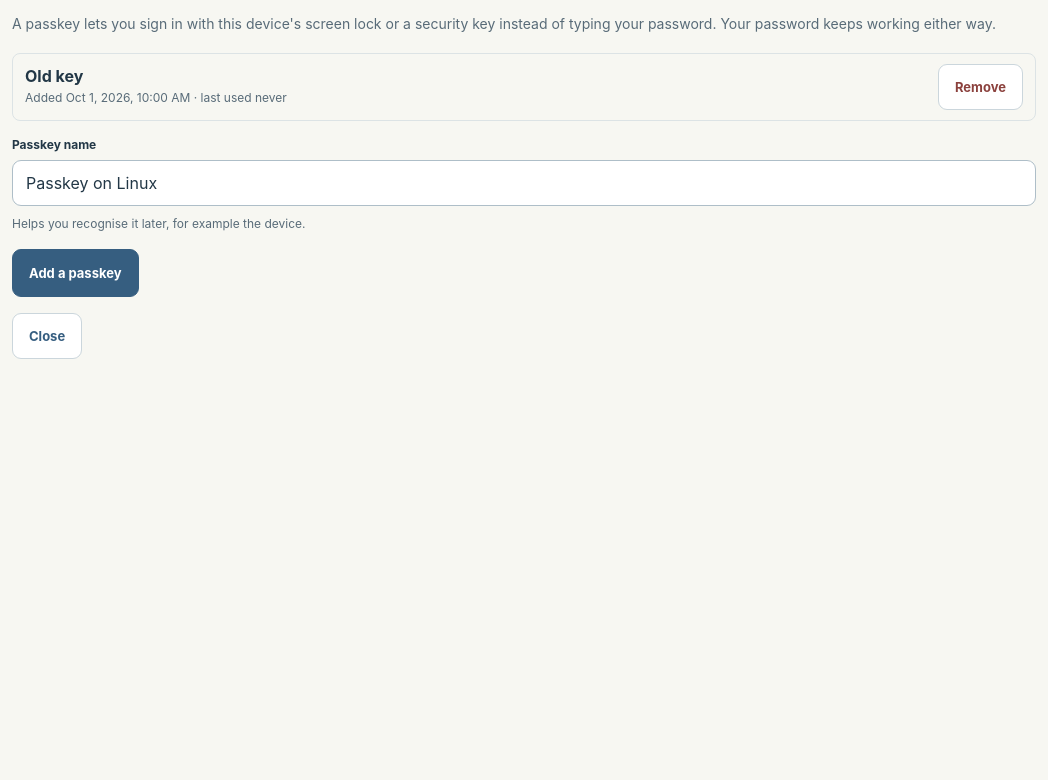
Test: managing passkeys › adds a passkey, asking for the password when the session is not fresh, and removes the last one
Expected: the text "Old key" is shown, [25,66,83,86]
Replace the text in the field labelled "Passkey name" with "Desk key" at coordinates (524, 182), box [12,160,1036,206]
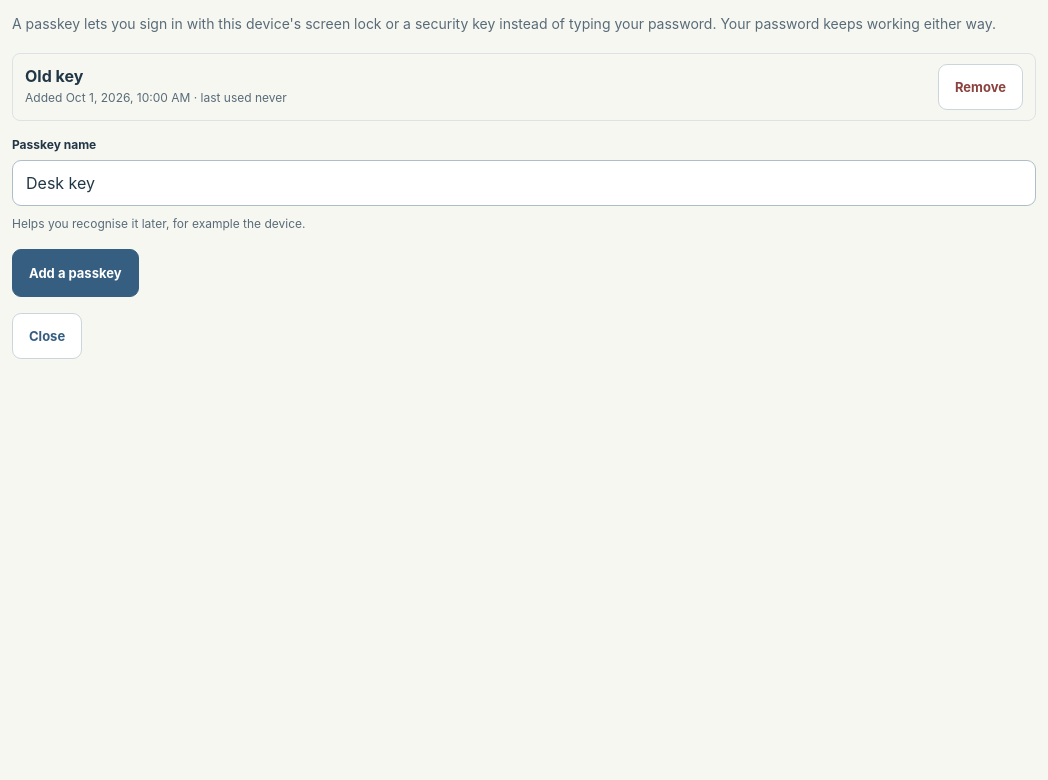
Click the button "Add a passkey".
click(75, 273)  # box [12,249,138,297]
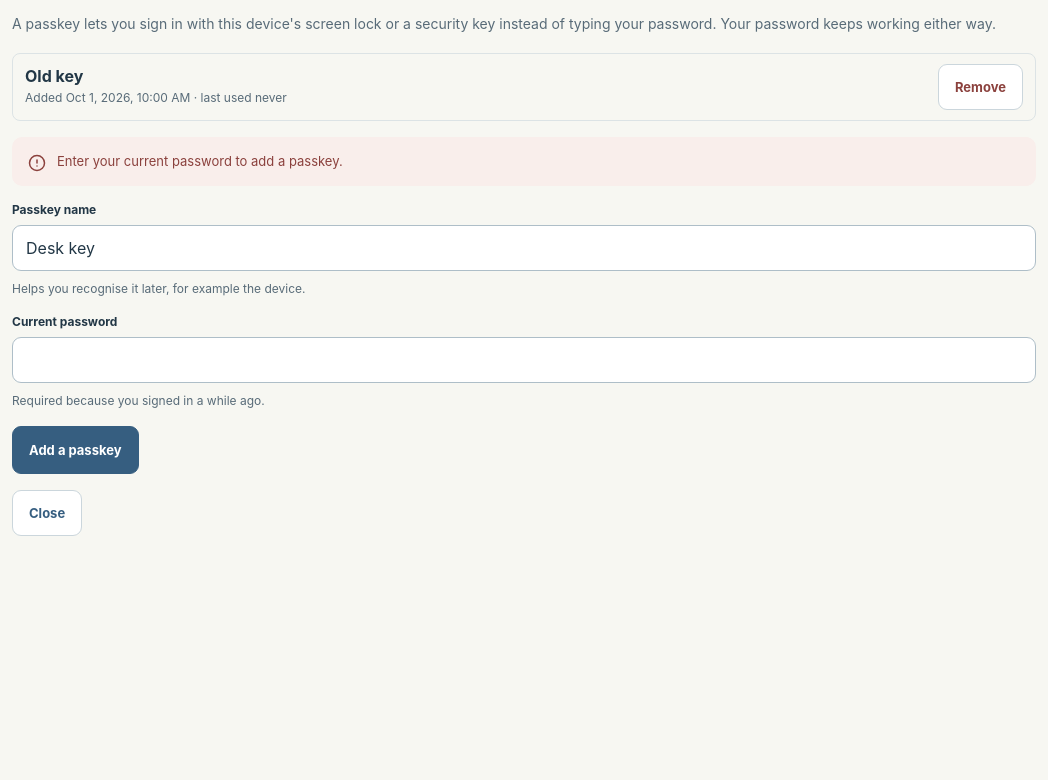
Type "my passphrase here" into the password field labelled "Current password".
click(524, 360); type("my passphrase here")  # box [12,337,1036,383]
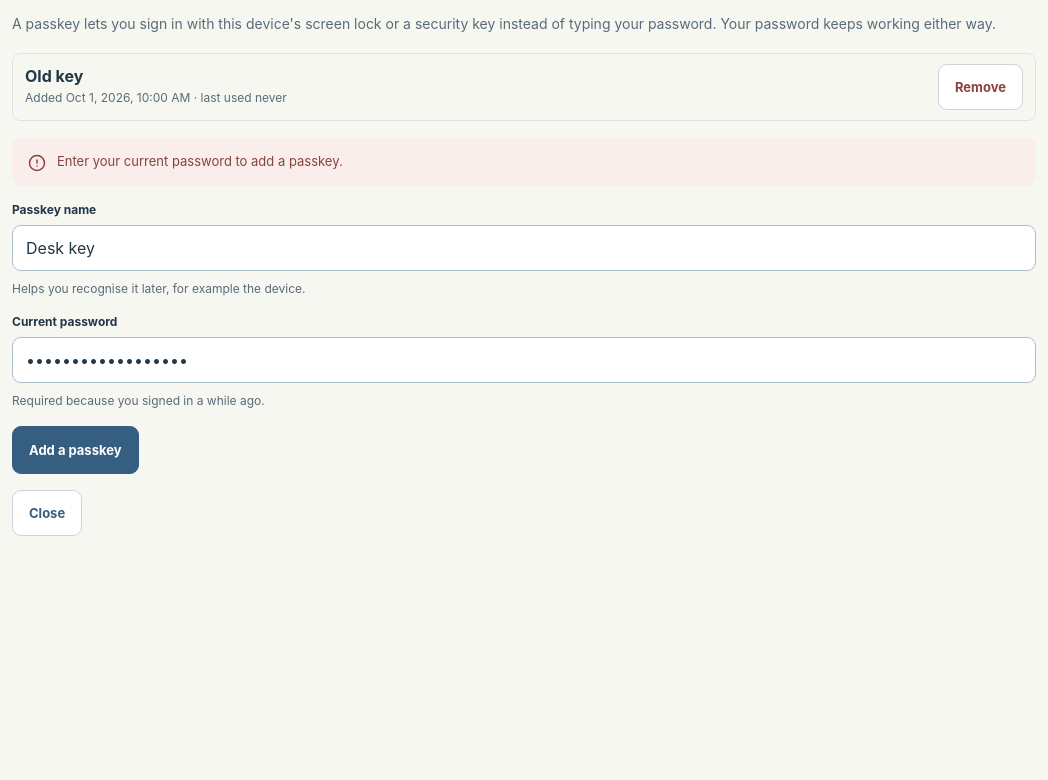
Click the button "Add a passkey".
click(75, 450)  # box [12,426,138,474]
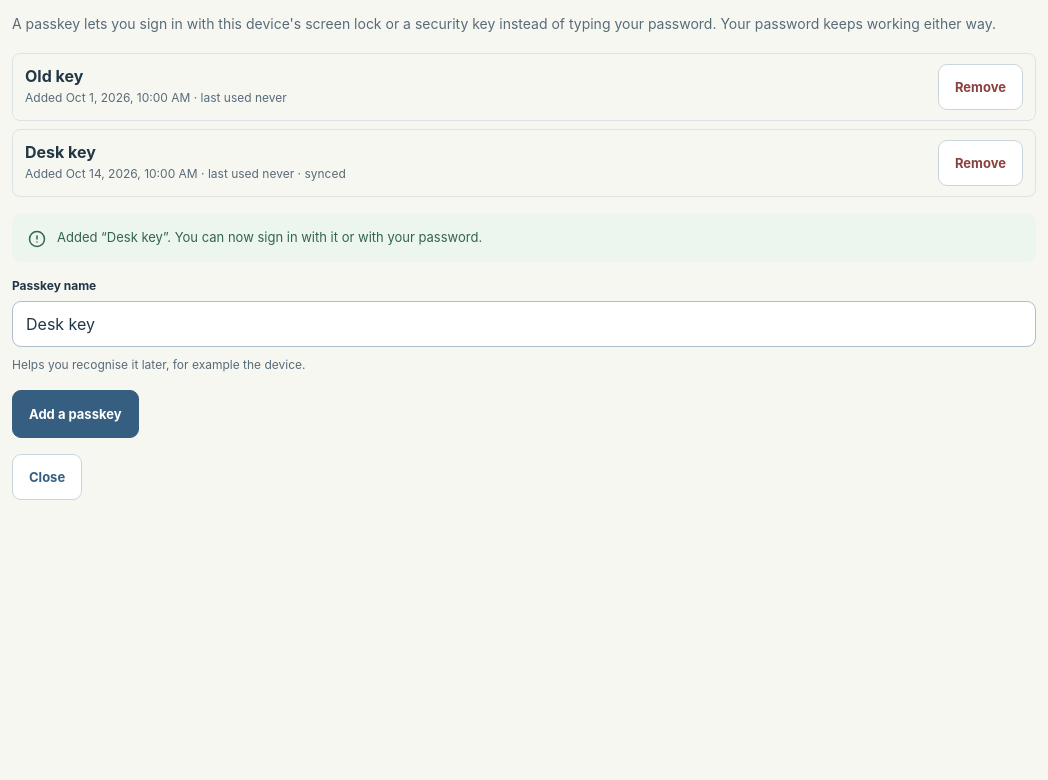
Expected: the text "Desk key" is shown, [25,142,96,162]
Click the button "Remove" in the row of "Old key".
click(980, 86)  # box [938,64,1023,110]
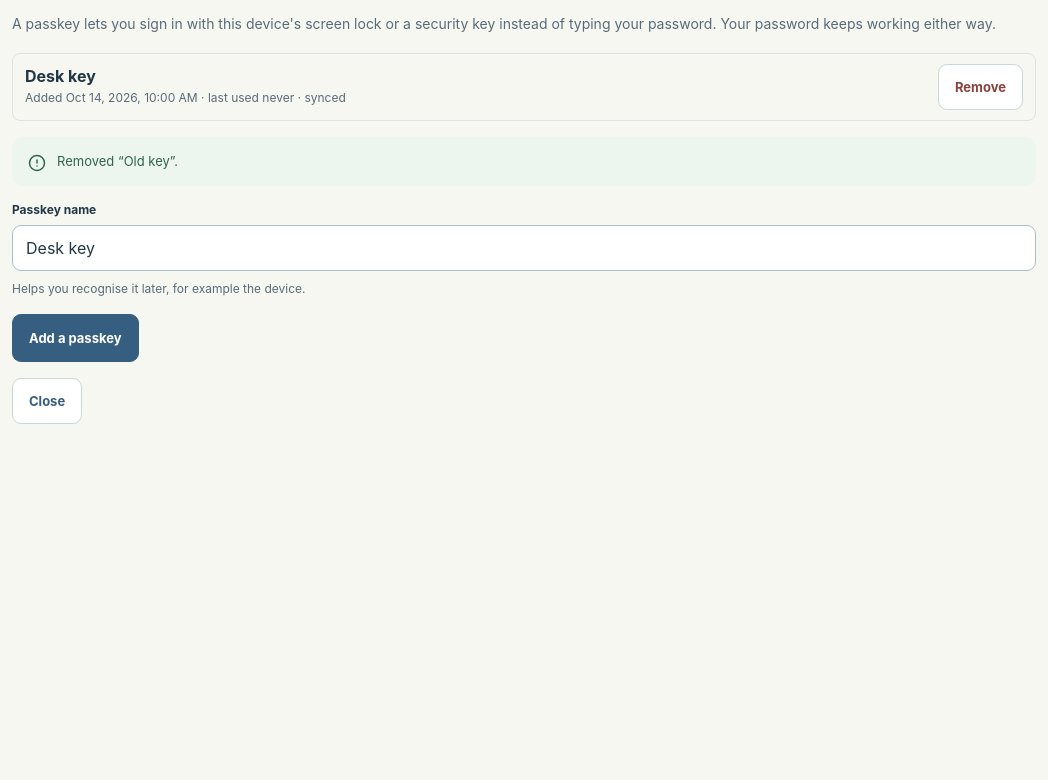
Click the button "Remove".
click(980, 86)  # box [938,64,1023,110]
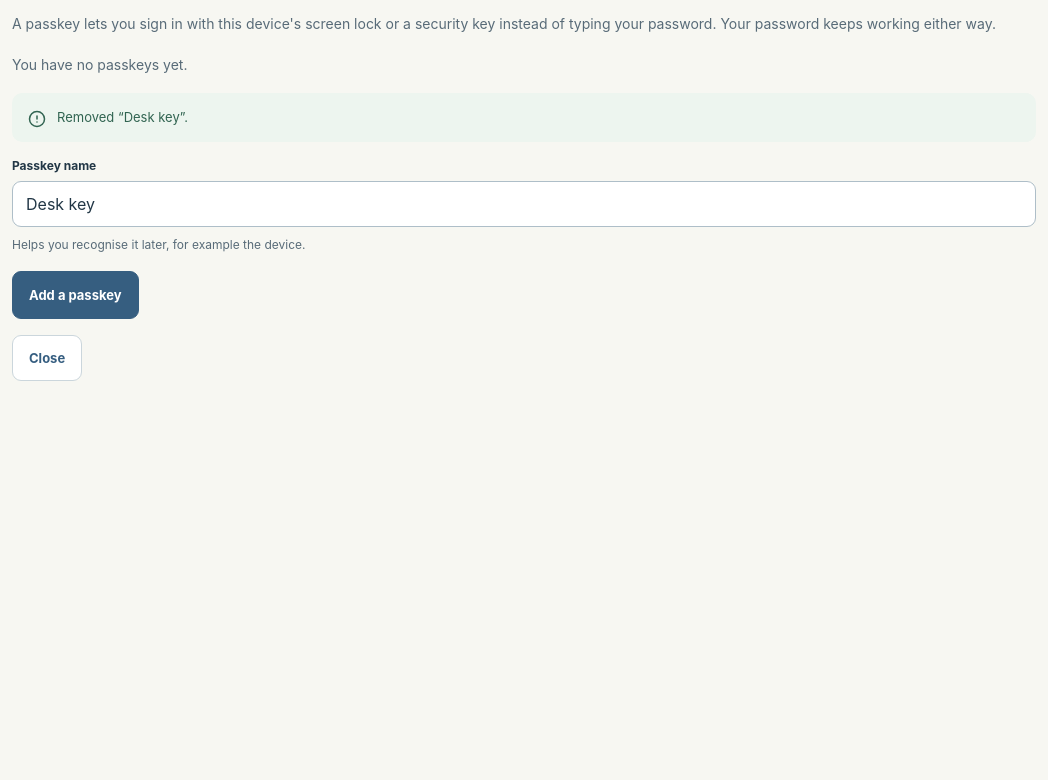
Expected: the text "You have no passkeys yet." is shown, [12,56,188,72]
